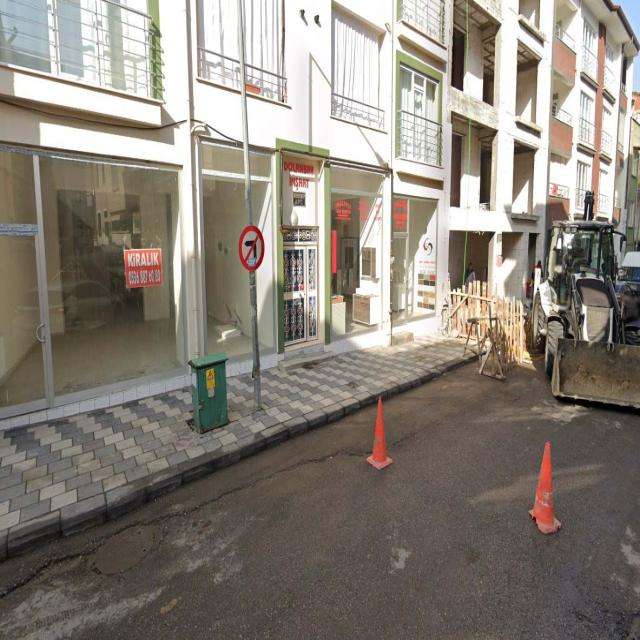soladonulmez: (237, 226, 266, 272)
